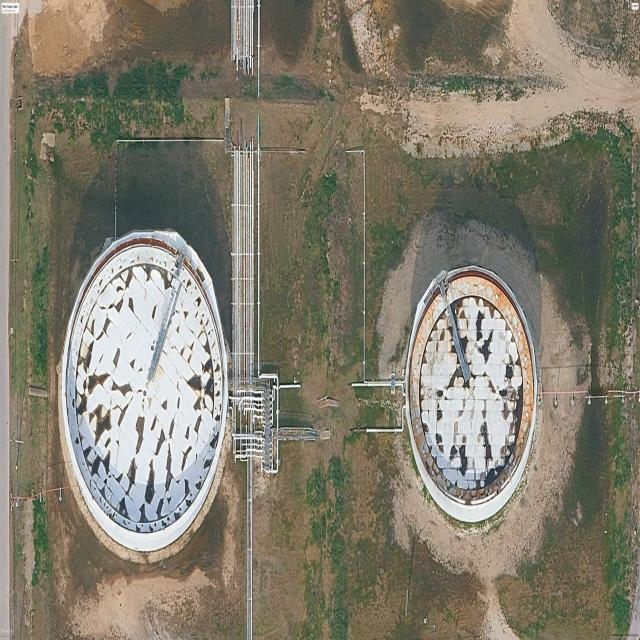Oil Rafinery: (61, 232, 228, 551), (405, 267, 537, 521)
